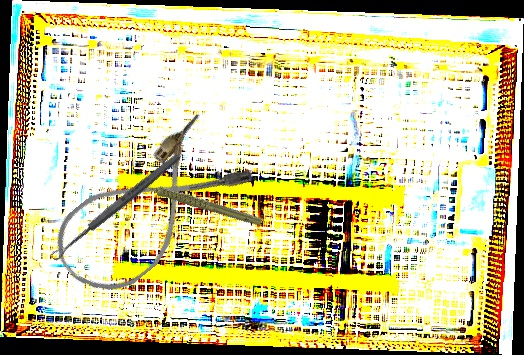Cannula: (39, 108, 260, 311)
Handpiece: (137, 153, 264, 250)
Surgical Spoon: (49, 151, 182, 263)
